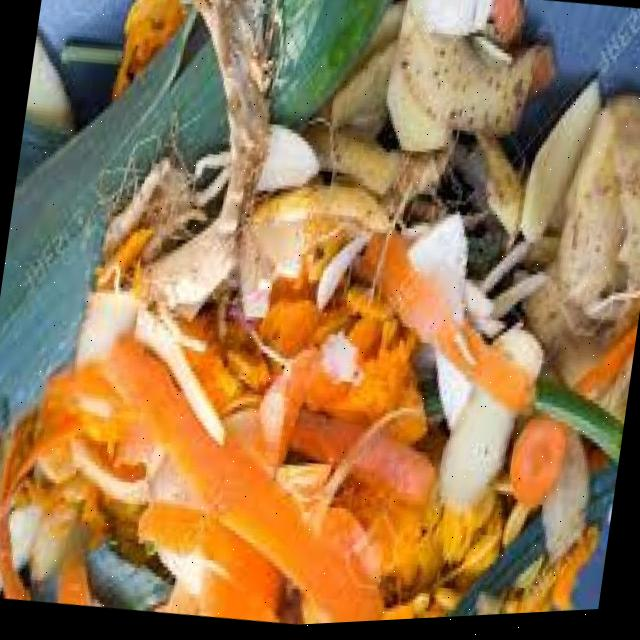Wet: (0, 0, 640, 640), (250, 367, 448, 547), (373, 0, 553, 170), (518, 372, 630, 493)
